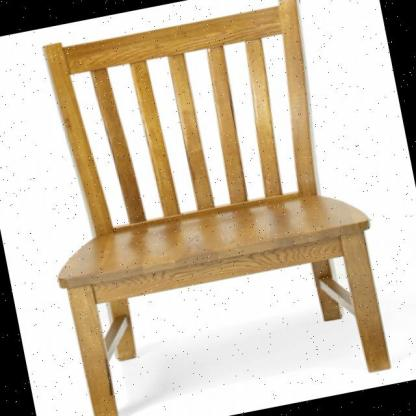Chair: (5, 0, 410, 416)
